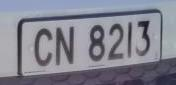1: (124, 15, 136, 64)
2: (107, 18, 127, 67)
3: (134, 15, 154, 62)
8: (87, 19, 107, 69)
C: (30, 23, 57, 73)
N: (53, 21, 79, 73)
